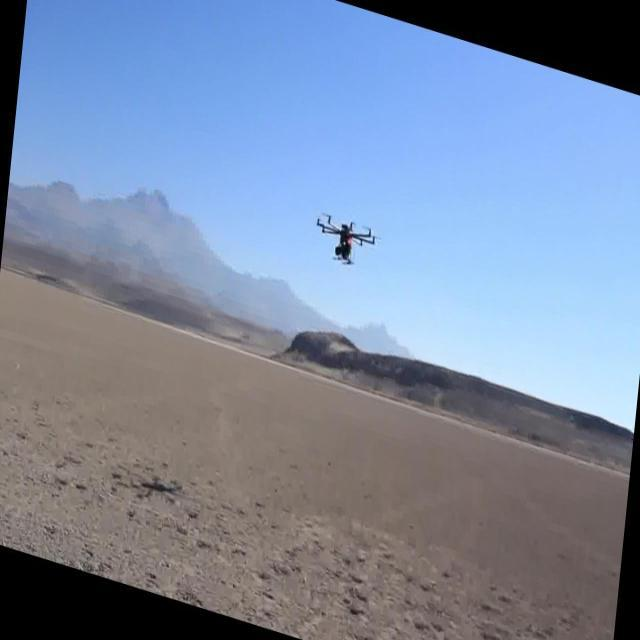drone: (311, 199, 379, 278)
